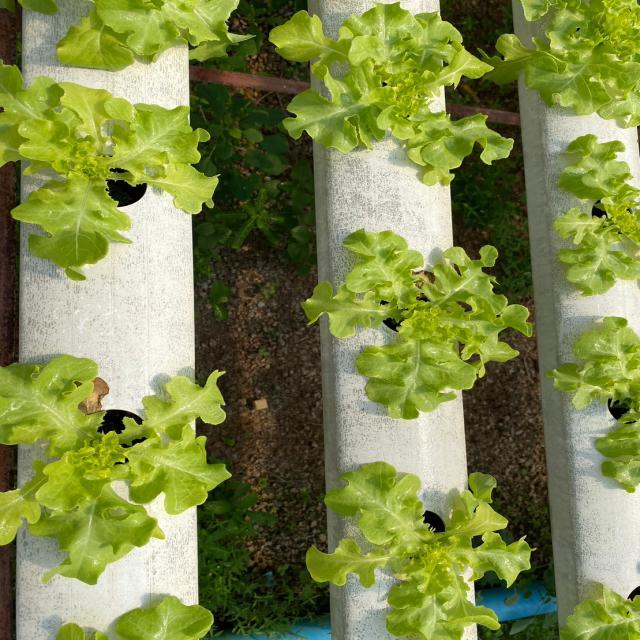Lettuce-Not-Ready-to-Harvest: (0, 355, 228, 583), (0, 64, 218, 278), (271, 4, 511, 185), (304, 230, 529, 418), (308, 462, 529, 640), (500, 0, 640, 124), (551, 318, 640, 491), (559, 135, 640, 293), (59, 0, 239, 69), (115, 598, 211, 639), (562, 590, 640, 640)
